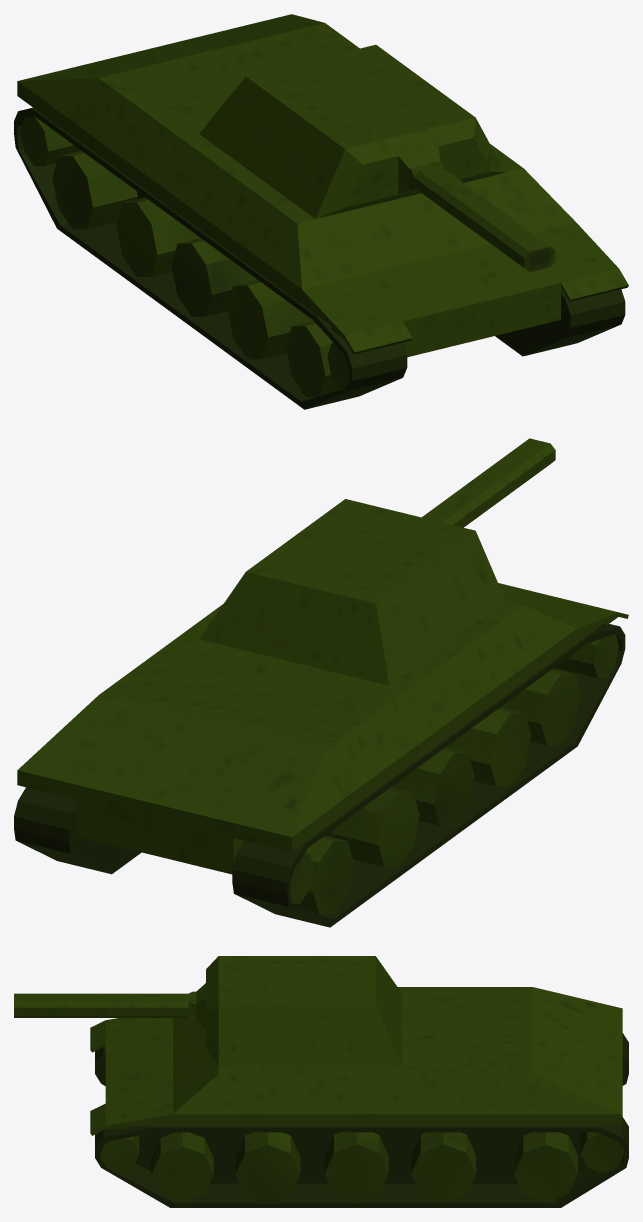
Rendered from Tank3.glb.
3 renders of one model, top to bottom at view 1: azimuth 30°, elevation 25°; view 2: azimuth 150°, elevation 25°; view 3: azimuth 270°, elevation 25°, orthographic. The views are drawn at different scales.
Visible parts, largest first — view 1: body; view 2: body; view 3: body.
Boxes of the visible parts, x1=… form: body: x1=14, y1=14, x2=628, y2=409; body: x1=14, y1=438, x2=628, y2=927; body: x1=14, y1=956, x2=628, y2=1207.
Bounding box in the file's own units: 8.22 × 6.32 × 20.2.
Materials: 1 (1 with a texture image).
